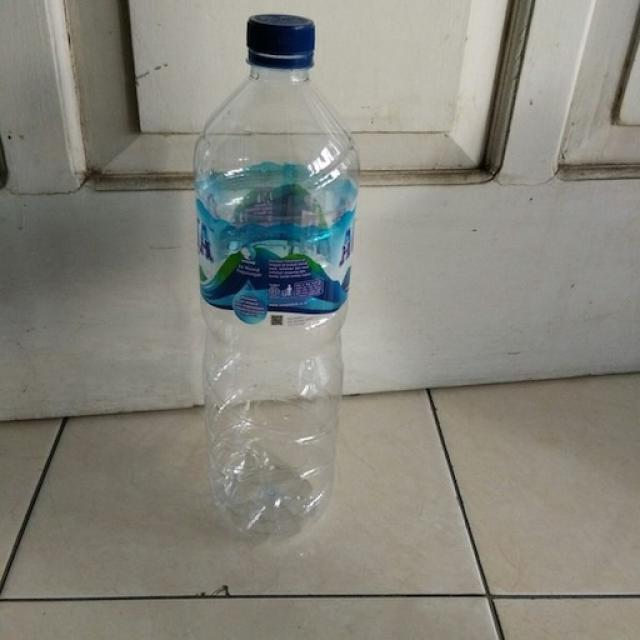bottle: (191, 10, 364, 547)
